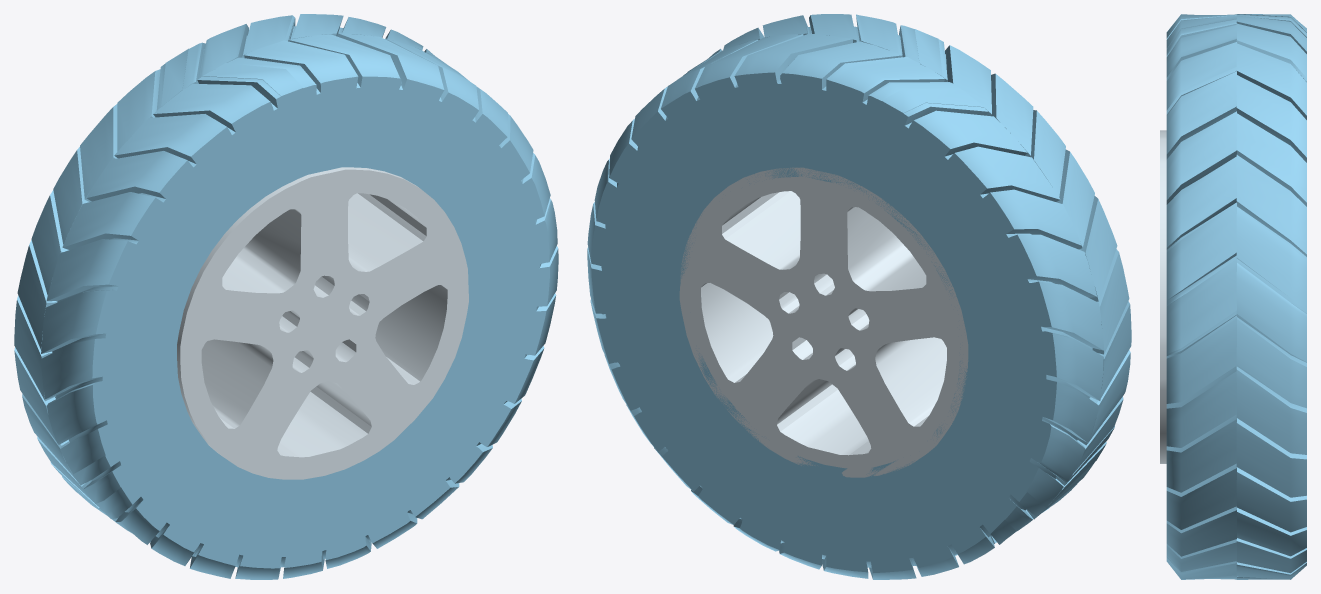
Rendered from scene_69BO8csg1k.glb.
3 renders of one model, left to right at view 1: azimuth 30°, elevation 25°; view 2: azimuth 150°, elevation 25°; view 3: azimuth 270°, elevation 25°, orthographic.
Parts seen in each view (by area): view 1: Node; view 2: Node; view 3: Node.
Boxes of the visible parts, box(x1,y1,x2,y2) form: Node: box(14, 14, 558, 579); Node: box(587, 14, 1131, 579); Node: box(1160, 14, 1306, 579).
Bounding box in the file's own units: 161 × 161 × 41.75.
